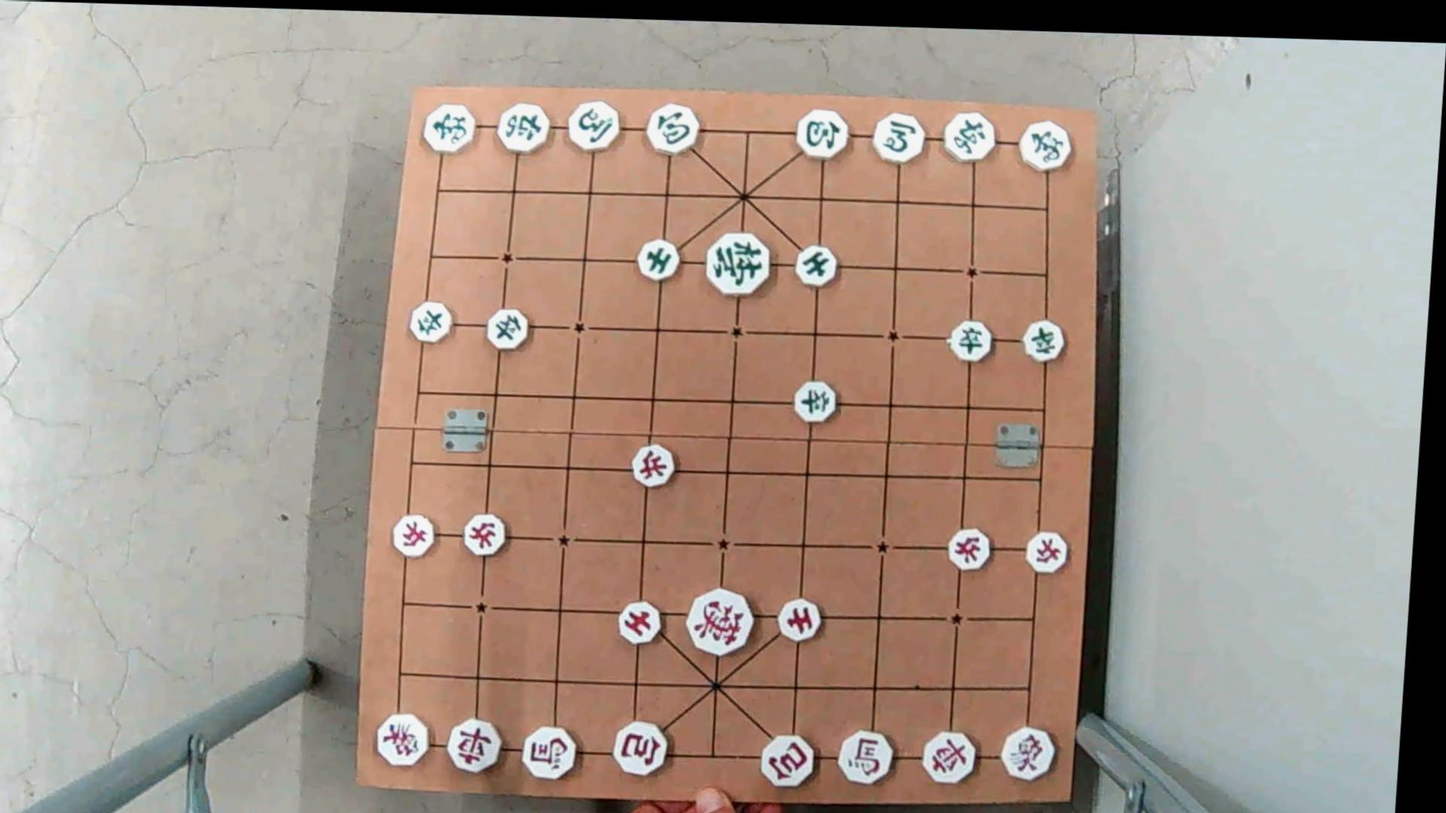cha_green: (937, 109, 1002, 163), (493, 104, 552, 151)
cha_red: (445, 720, 508, 771), (917, 732, 981, 782)
jol_green: (790, 382, 840, 423), (483, 311, 532, 349), (947, 321, 996, 359), (1017, 323, 1064, 361), (410, 303, 454, 343)
jol_red: (389, 513, 440, 562), (460, 512, 511, 558), (1023, 528, 1073, 574), (942, 526, 993, 571), (629, 446, 679, 486)
ma_green: (871, 113, 932, 165), (563, 105, 624, 153)
ma_red: (520, 725, 584, 780), (835, 732, 898, 783)
po_green: (645, 108, 706, 156), (792, 110, 853, 157)
po_red: (609, 723, 672, 773), (755, 735, 816, 786)
sa_green: (790, 245, 838, 288), (633, 242, 681, 280)
sa_red: (614, 599, 662, 645), (775, 601, 826, 641)
sang_green: (1014, 119, 1078, 173), (419, 103, 478, 151)
sang_red: (996, 729, 1060, 780), (371, 714, 433, 764)
wang_green: (704, 233, 776, 293)
wang_red: (682, 589, 755, 653)
